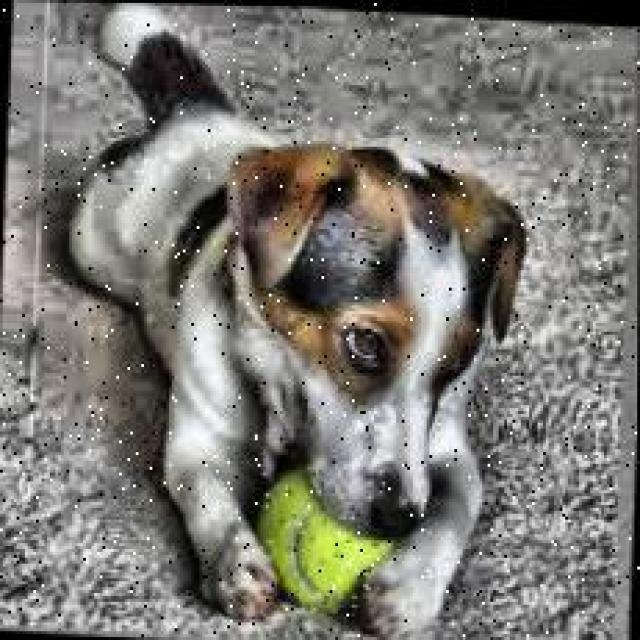tennis-ball: (253, 460, 398, 620)
